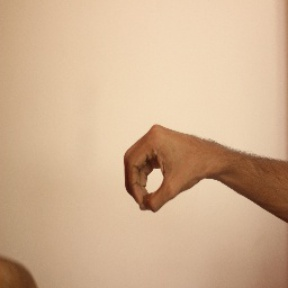O: (117, 121, 208, 218)
